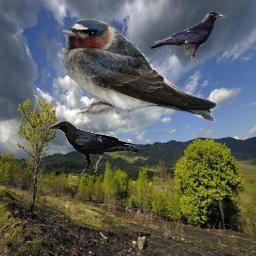Crow: (48, 120, 140, 176), (149, 11, 226, 66)
Swallow: (58, 17, 219, 123)
